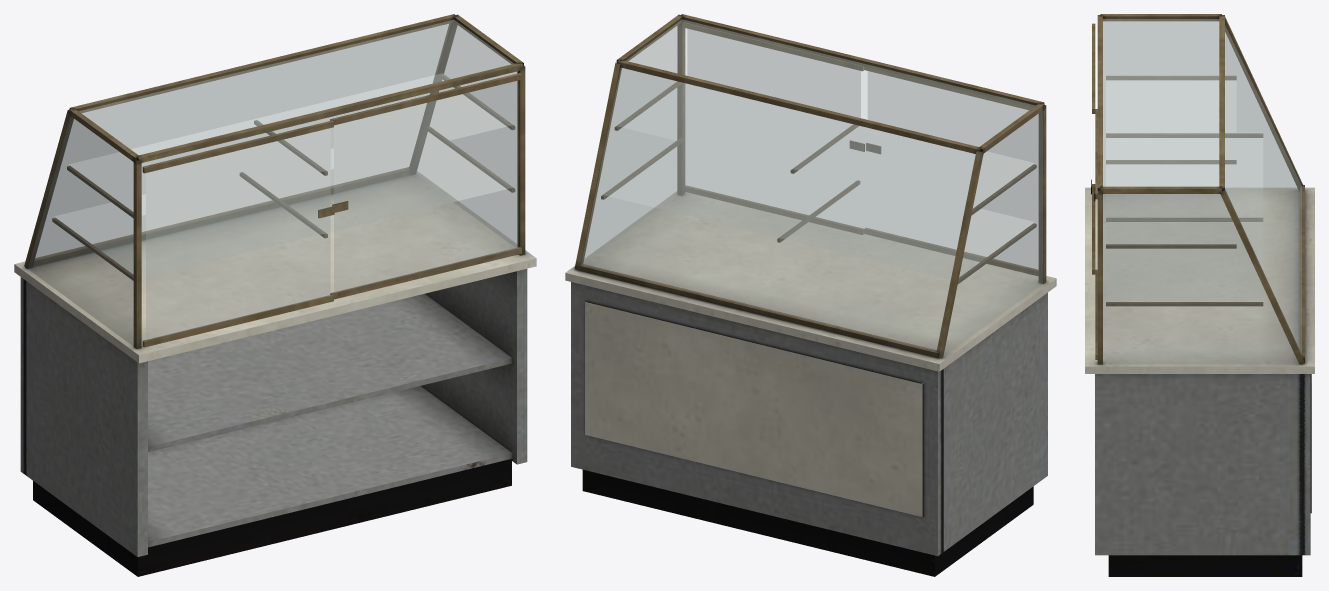
The model's file is konditer_showcase_lod1_web.glb.
3 renders of one model, left to right at view 1: azimuth 30°, elevation 25°; view 2: azimuth 150°, elevation 25°; view 3: azimuth 270°, elevation 25°, orthographic. The views are drawn at different scales.
Visible parts, largest first — view 1: KonditerShowcase_Body, Glass_Shelves, Glass_Slide_R, Glass_Slide_L, Glass_Sides, Glass_Top, Glass_Front, Slide_R_Frame, Slide_L_Frame; view 2: KonditerShowcase_Body, Glass_Front, Glass_Shelves, Glass_Sides, Glass_Top, Glass_Slide_R, Glass_Slide_L, Slide_L_Frame, Slide_R_Frame; view 3: KonditerShowcase_Body, Glass_Sides, Glass_Shelves, Glass_Top, Glass_Front, Slide_R_Frame, Slide_L_Frame.
Boxes of the visible parts, left/top/right/bottom form: KonditerShowcase_Body: left=14, top=14, right=536, bottom=576; Glass_Shelves: left=55, top=73, right=512, bottom=277; Glass_Slide_R: left=146, top=128, right=330, bottom=340; Glass_Slide_L: left=334, top=81, right=517, bottom=292; Glass_Sides: left=28, top=25, right=516, bottom=345; Glass_Top: left=79, top=20, right=513, bottom=154; Glass_Front: left=35, top=23, right=450, bottom=259; Slide_R_Frame: left=142, top=120, right=334, bottom=347; Slide_L_Frame: left=330, top=73, right=521, bottom=299; KonditerShowcase_Body: left=565, top=14, right=1056, bottom=576; Glass_Front: left=581, top=68, right=975, bottom=350; Glass_Shelves: left=603, top=81, right=1033, bottom=279; Glass_Sides: left=584, top=26, right=1042, bottom=355; Glass_Top: left=626, top=19, right=1034, bottom=146; Glass_Slide_R: left=868, top=71, right=1038, bottom=269; Glass_Slide_L: left=687, top=29, right=860, bottom=117; Slide_L_Frame: left=684, top=22, right=864, bottom=234; Slide_R_Frame: left=864, top=66, right=1038, bottom=275; KonditerShowcase_Body: left=1085, top=14, right=1314, bottom=576; Glass_Sides: left=1103, top=21, right=1298, bottom=363; Glass_Shelves: left=1106, top=75, right=1262, bottom=300; Glass_Top: left=1103, top=19, right=1218, bottom=186; Glass_Front: left=1225, top=26, right=1301, bottom=353; Slide_R_Frame: left=1091, top=23, right=1095, bottom=274; Slide_L_Frame: left=1094, top=109, right=1097, bottom=359.
Bounding box in the file's own units: 1.53 × 1.56 × 0.83.
2 materials, 1 textured.
